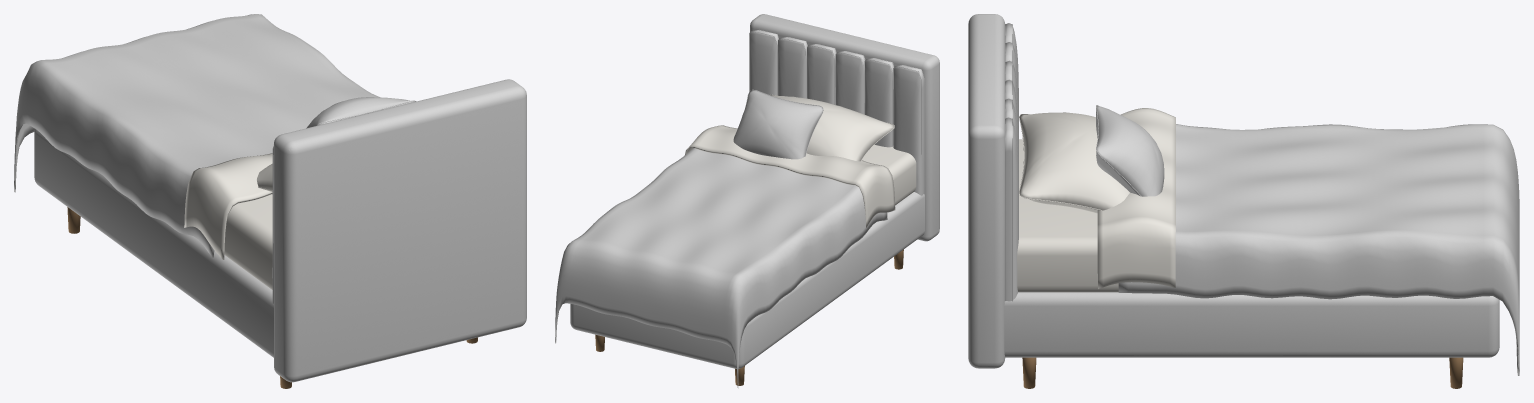
File: bed-single-upholstered.glb
3 views of the same model, side by side, from view 1: azimuth 30°, elevation 25°; view 2: azimuth 150°, elevation 25°; view 3: azimuth 270°, elevation 25° (orthographic). The views are drawn at different scales.
Parts seen in each view (by area): view 1: Padded single headboard, Soft draped duvet, Upholstered divan base, Turned-back duvet edge, Rounded single mattress, Soft accent cushion; view 2: Soft draped duvet, Upholstered divan base, Padded single headboard, Turned-back duvet edge, Soft accent cushion, Sleeping pillow, Headboard padded channel, Headboard padded channel.001, Headboard padded channel.005, Headboard padded channel.004, Headboard padded channel.002, Headboard padded channel.003 (+1 smaller); view 3: Soft draped duvet, Upholstered divan base, Padded single headboard, Turned-back duvet edge, Sleeping pillow, Rounded single mattress, Soft accent cushion, Headboard padded channel.005.
Boxes of the visible parts, x1,y1,x2,y2 form: Padded single headboard: (274, 79, 526, 382); Soft draped duvet: (14, 14, 379, 257); Upholstered divan base: (34, 129, 273, 357); Turned-back duvet edge: (184, 153, 272, 259); Rounded single mattress: (224, 194, 272, 289); Soft accent cushion: (306, 97, 415, 128); Soft draped duvet: (555, 148, 887, 386); Upholstered divan base: (570, 192, 924, 368); Padded single headboard: (750, 14, 939, 241); Turned-back duvet edge: (685, 125, 895, 227); Soft accent cushion: (733, 90, 823, 159); Sleeping pillow: (770, 94, 894, 161); Headboard padded channel: (893, 65, 923, 195); Headboard padded channel.001: (864, 58, 893, 147); Headboard padded channel.005: (749, 30, 778, 95); Headboard padded channel.004: (778, 37, 807, 98); Headboard padded channel.002: (835, 51, 865, 114); Headboard padded channel.003: (807, 44, 836, 104); Soft draped duvet: (1118, 124, 1519, 375); Upholstered divan base: (1004, 292, 1499, 357); Padded single headboard: (968, 14, 1005, 368); Turned-back duvet edge: (1097, 108, 1175, 288); Sleeping pillow: (1019, 112, 1129, 213); Rounded single mattress: (1017, 139, 1118, 292); Soft accent cushion: (1096, 105, 1164, 196); Headboard padded channel.005: (1005, 117, 1018, 301).
Size of the model in its own units: 0.9987 by 1.05 by 1.94.
3 materials, 1 textured.
